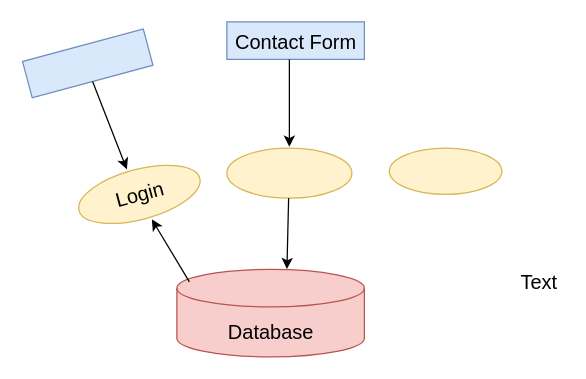
The diagram is 586 pixels wide and 379 high, and some of its shapes have lost their labels. Each missing label, with the centre of its shape:
"Contact" belongs at pixel 289 172.
"Login Form" belongs at pixel 87 63.
